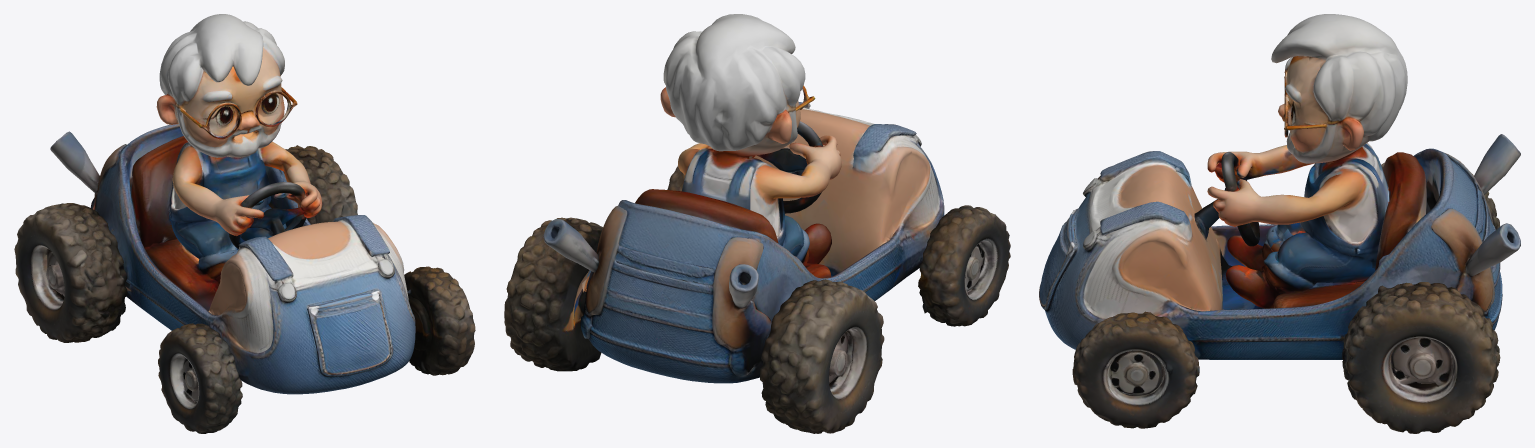
File: donald_racer.glb
3 renders of one model, left to right at view 1: azimuth 30°, elevation 25°; view 2: azimuth 150°, elevation 25°; view 3: azimuth 270°, elevation 25°, orthographic. The views are drawn at different scales.
Visible parts, largest first — view 1: tripo_node_b47ff89d.001; view 2: tripo_node_b47ff89d.001; view 3: tripo_node_b47ff89d.001.
Boxes of the visible parts, x1,y1,x2,y2 form: tripo_node_b47ff89d.001: (14,14,475,433); tripo_node_b47ff89d.001: (504,14,1010,433); tripo_node_b47ff89d.001: (1039,14,1520,433).
Bounding box in the file's own units: 0.6496 × 0.6777 × 0.8562.
1 material, 1 textured.
